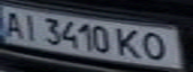0: (90, 22, 115, 55)
1: (75, 21, 93, 52)
3: (39, 16, 63, 47)
4: (57, 19, 78, 49)
A: (0, 8, 27, 39)
I: (18, 11, 42, 43)
K: (112, 26, 148, 60)
O: (136, 30, 175, 63)
